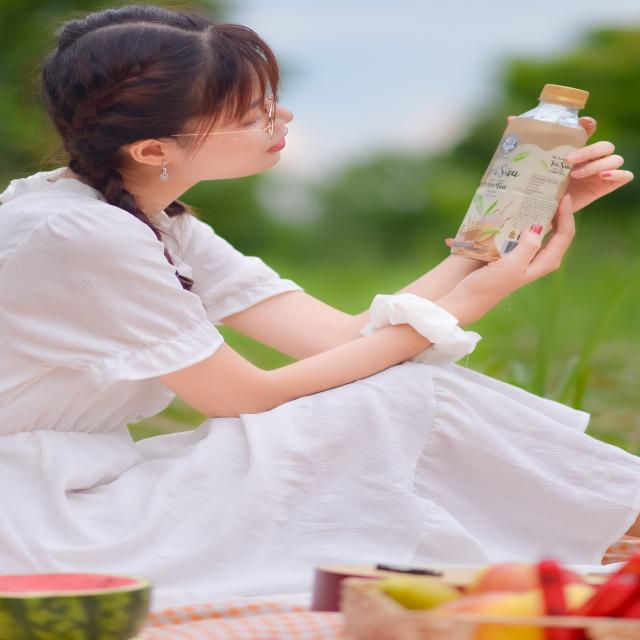bottle: (448, 82, 590, 263)
